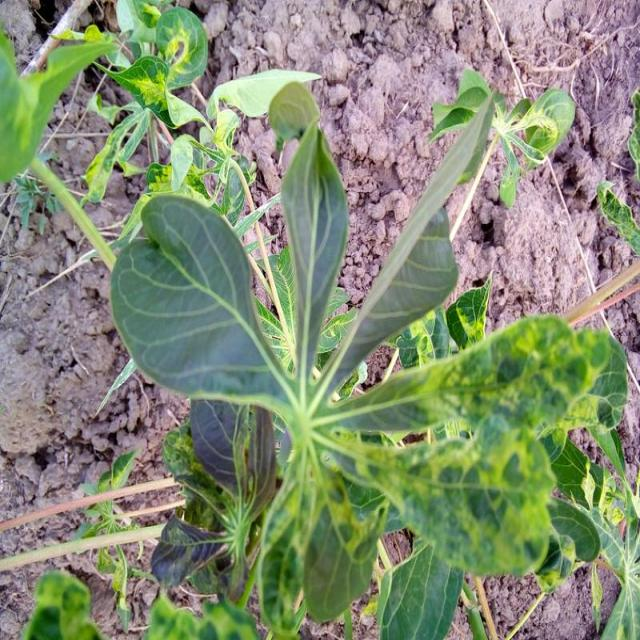cassava leaf: (105, 76, 619, 637), (108, 190, 296, 411)
